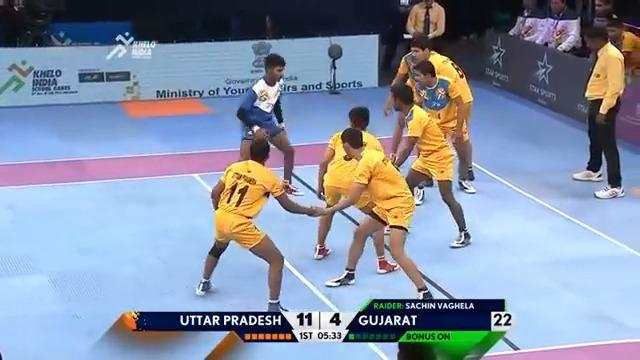Player: (195, 131, 327, 312), (316, 127, 434, 300), (384, 33, 476, 194), (386, 82, 472, 248), (571, 25, 626, 198)
Raider: (235, 52, 304, 196)
referee: (2, 0, 72, 47), (519, 0, 581, 53), (404, 0, 446, 52), (507, 0, 545, 39)
